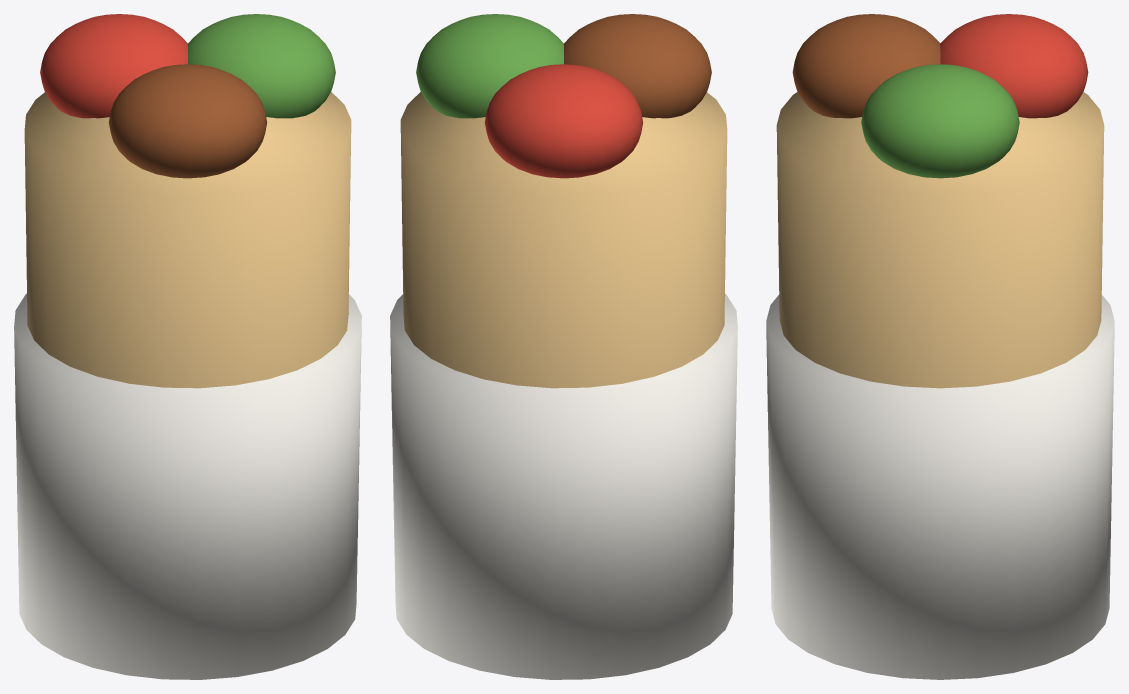
The model's file is prop_shawarma.fbx.
The picture shows the model from 3 angles, left to right: view 1: azimuth 30°, elevation 25°; view 2: azimuth 150°, elevation 25°; view 3: azimuth 270°, elevation 25°; orthographic projection.
Parts seen in each view (by area): view 1: prop_shawarma; view 2: prop_shawarma; view 3: prop_shawarma.
Boxes of the visible parts, x1=… form: prop_shawarma: x1=14, y1=14, x2=361, y2=679; prop_shawarma: x1=390, y1=14, x2=737, y2=679; prop_shawarma: x1=766, y1=14, x2=1114, y2=679.
Size of the model in its own units: 0.132 by 0.237 by 0.132.
